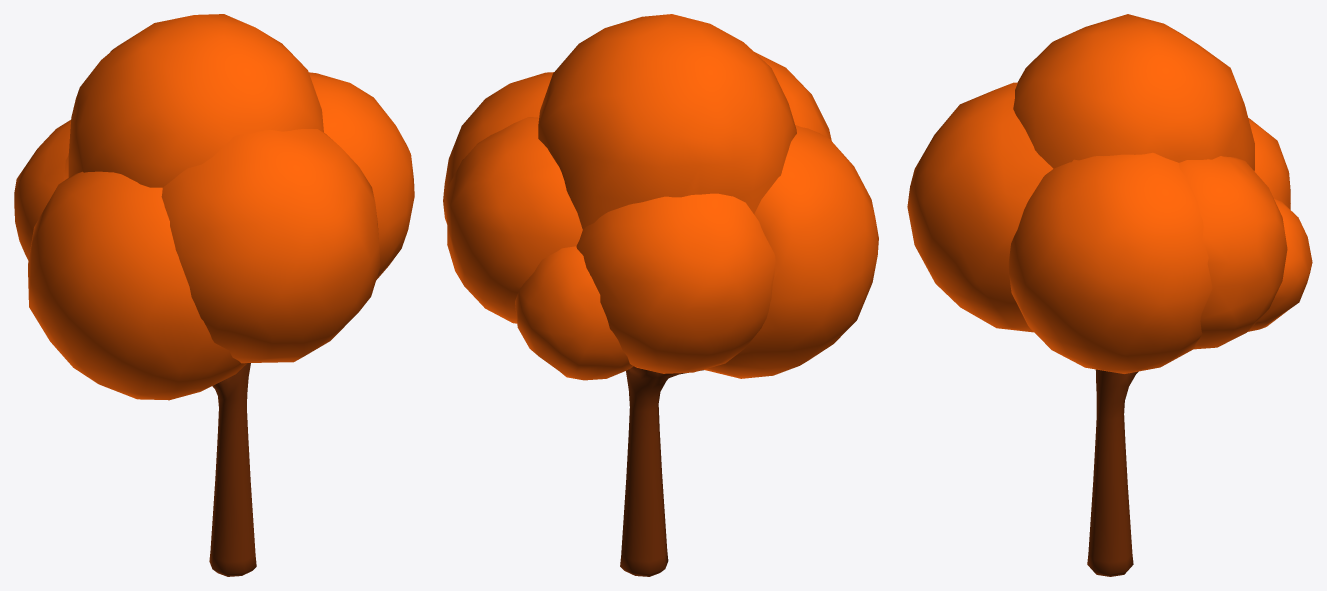
The model's file is Tree001.fbx.
3 renders of one model, left to right at view 1: azimuth 30°, elevation 25°; view 2: azimuth 150°, elevation 25°; view 3: azimuth 270°, elevation 25°, orthographic. The views are drawn at different scales.
Parts seen in each view (by area): view 1: Plane.003; view 2: Plane.003; view 3: Plane.003.
Part boxes in pixels (left/top/right/bottom): Plane.003: left=14, top=14, right=414, bottom=576; Plane.003: left=443, top=14, right=878, bottom=576; Plane.003: left=907, top=14, right=1312, bottom=576.
Bounding box in the file's own units: 296 × 412 × 286.
Materials: 1 (1 with a texture image).
